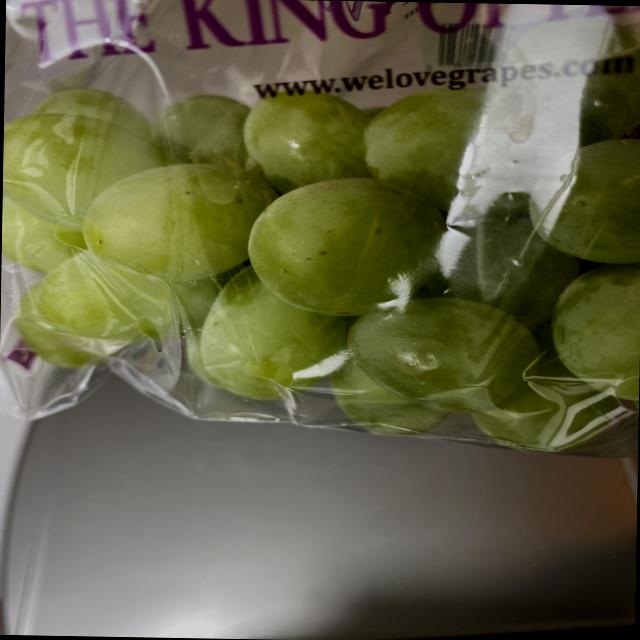grapes: (5, 29, 640, 439)
